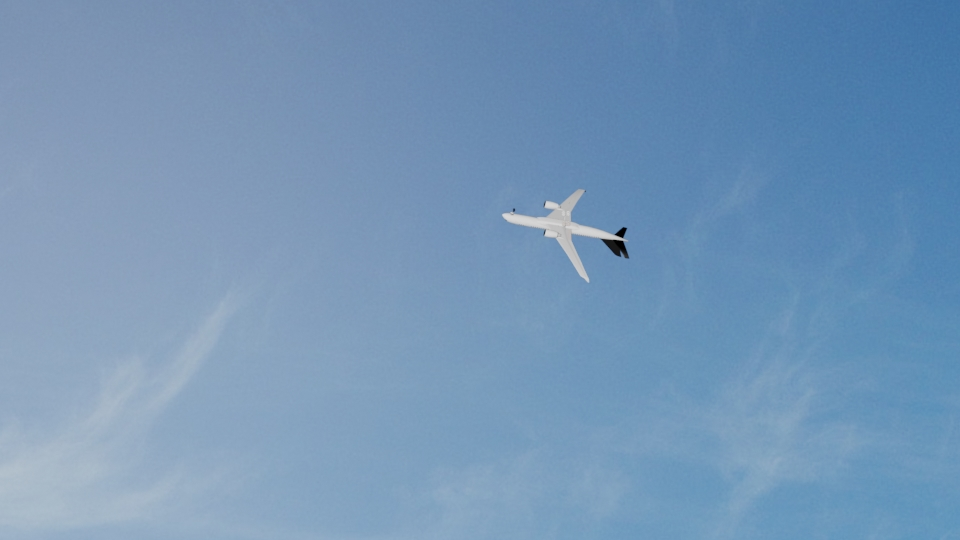plane: (499, 186, 633, 287)
